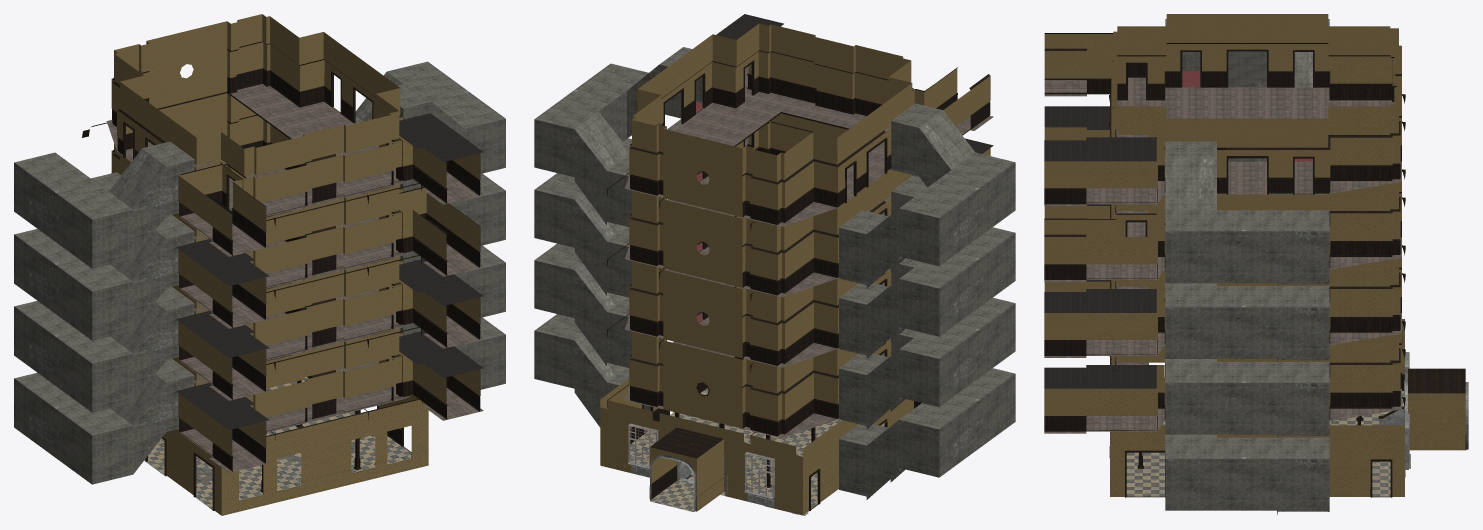
File: Eingangshalle.fbx
3 renders of one model, left to right at view 1: azimuth 30°, elevation 25°; view 2: azimuth 150°, elevation 25°; view 3: azimuth 270°, elevation 25°, orthographic. The views are drawn at different scales.
Visible parts, largest first — view 1: 1gangobj; view 2: 1gangobj; view 3: 1gangobj.
Part boxes in pixels (<box>): 1gangobj: <box>14,14,505,515</box>; 1gangobj: <box>534,14,1015,515</box>; 1gangobj: <box>1044,14,1468,514</box>.
Bounding box in the file's own units: 122 × 102 × 103.
